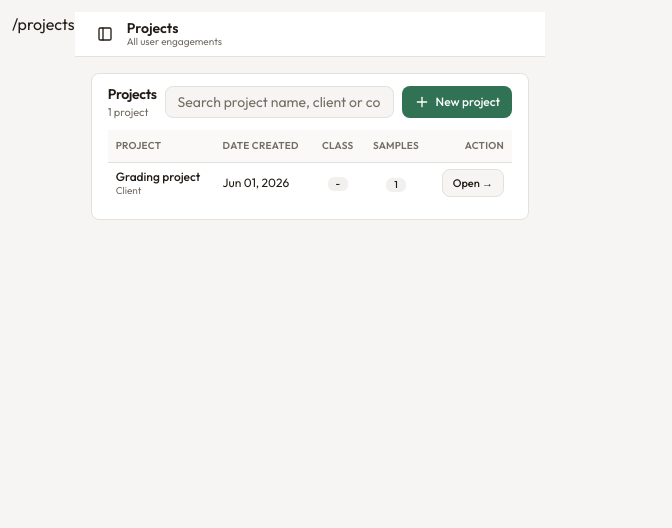
it: ProjectOverview › opens a selected project from the main list into its overview
Click the button "Open →".
click(473, 182)  # box [442, 168, 504, 196]
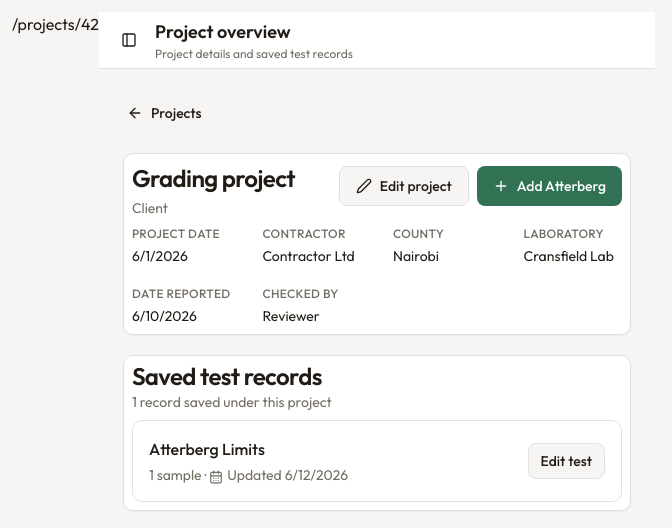
Check: the text with test id "current-location" reads "/projects/42", box [12, 14, 99, 34]
